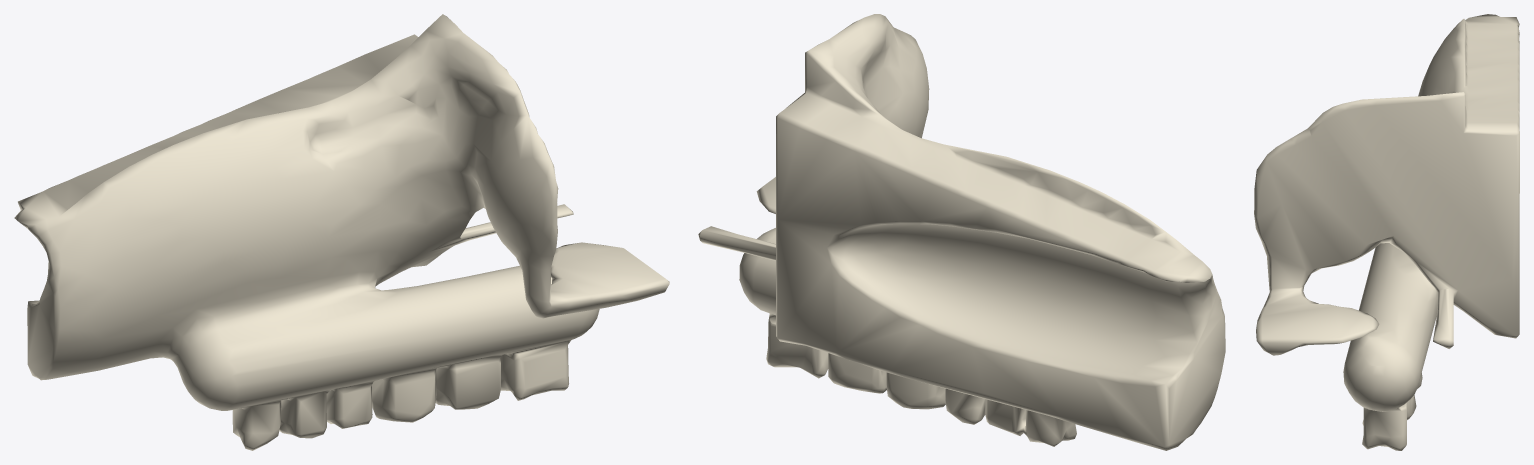
Rendered from maxilla_l.glb.
3 views of the same model, side by side, from view 1: azimuth 30°, elevation 25°; view 2: azimuth 150°, elevation 25°; view 3: azimuth 270°, elevation 25° (orthographic). The views are drawn at different scales.
Parts seen in each view (by area): view 1: geometry_0; view 2: geometry_0; view 3: geometry_0.
Part boxes in pixels (x1,y1,x2,y2): geometry_0: (14, 14, 669, 450); geometry_0: (698, 14, 1225, 450); geometry_0: (1254, 14, 1519, 450).
Size of the model in its own units: 0.4685 by 0.3025 by 0.2215.
